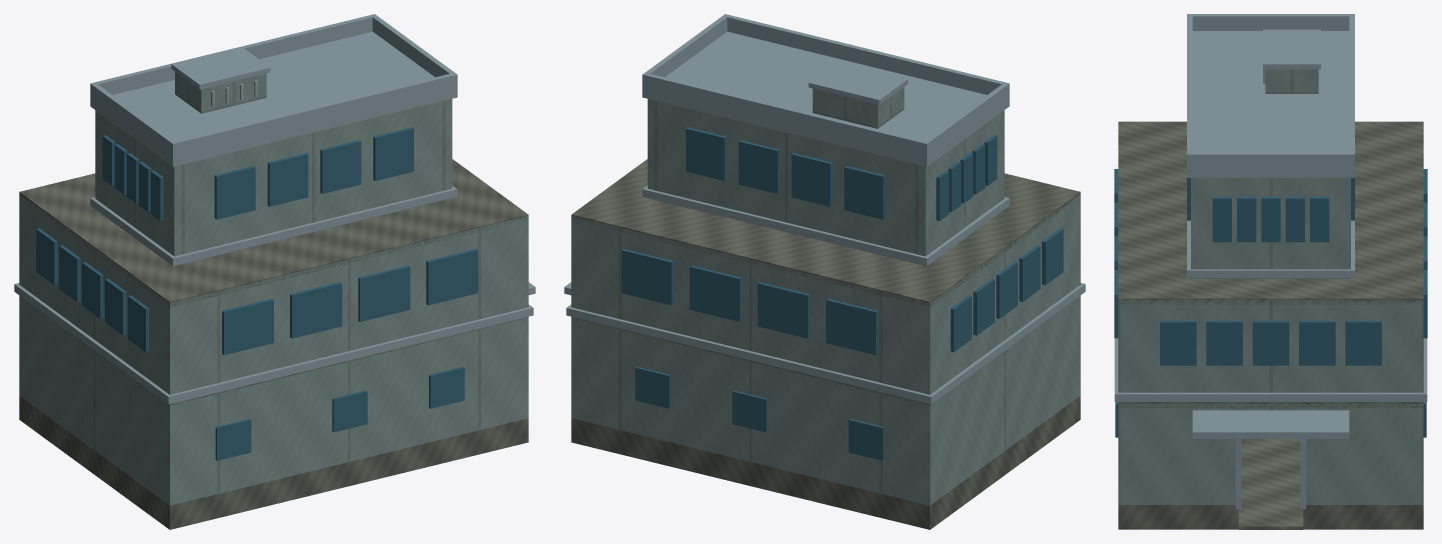
The model's file is Halo_Rowhouse.glb.
3 renders of one model, left to right at view 1: azimuth 30°, elevation 25°; view 2: azimuth 150°, elevation 25°; view 3: azimuth 270°, elevation 25°, orthographic.
Parts seen in each view (by area): view 1: Halo_Rowhouse_GroundShell, Halo_Rowhouse_Upper1_Shell_F1, Halo_Rowhouse_Roof, Halo_Rowhouse_Upper2_Shell_F1, Halo_Rowhouse_TerraceDeck_2, Halo_Rowhouse_Foundation, Halo_Rowhouse_Upper1_SideGlazing_F1, Halo_Rowhouse_Upper2_SideGlazing_F1, Halo_Rowhouse_Upper1_SlabBand_F1, Halo_Rowhouse_Upper1_EndGlazing_F1, Halo_Rowhouse_RoofPlant, Halo_Rowhouse_Upper2_SlabBand_F1 (+2 smaller); view 2: Halo_Rowhouse_GroundShell, Halo_Rowhouse_Upper1_Shell_F1, Halo_Rowhouse_Roof, Halo_Rowhouse_Upper2_Shell_F1, Halo_Rowhouse_TerraceDeck_2, Halo_Rowhouse_Foundation, Halo_Rowhouse_Upper1_SideGlazing_F1, Halo_Rowhouse_Upper2_SideGlazing_F1, Halo_Rowhouse_Upper1_SlabBand_F1, Halo_Rowhouse_Upper1_EndGlazing_F1, Halo_Rowhouse_RoofPlant, Halo_Rowhouse_Upper2_SlabBand_F1 (+2 smaller); view 3: Halo_Rowhouse_TerraceDeck_2, Halo_Rowhouse_Roof, Halo_Rowhouse_GroundShell, Halo_Rowhouse_Upper1_Shell_F1, Halo_Rowhouse_Upper2_Shell_F1, Halo_Rowhouse_Foundation, Halo_Rowhouse_Upper1_EndGlazing_F1, Halo_Rowhouse_Upper2_EndGlazing_F1, Halo_Rowhouse_PortalFixture, Halo_Rowhouse_RoofPlant, Halo_Rowhouse_Upper1_SlabBand_F1, Halo_Rowhouse_Upper2_SlabBand_F1 (+4 smaller).
Boxes of the visible parts, x1=… form: Halo_Rowhouse_GroundShell: x1=19, y1=295, x2=528, y2=505; Halo_Rowhouse_Upper1_Shell_F1: x1=19, y1=195, x2=528, y2=404; Halo_Rowhouse_Roof: x1=90, y1=14, x2=457, y2=166; Halo_Rowhouse_Upper2_Shell_F1: x1=95, y1=99, x2=452, y2=265; Halo_Rowhouse_TerraceDeck_2: x1=19, y1=159, x2=528, y2=307; Halo_Rowhouse_Foundation: x1=19, y1=396, x2=528, y2=529; Halo_Rowhouse_Upper1_SideGlazing_F1: x1=222, y1=249, x2=478, y2=355; Halo_Rowhouse_Upper2_SideGlazing_F1: x1=214, y1=127, x2=413, y2=219; Halo_Rowhouse_Upper1_SlabBand_F1: x1=14, y1=283, x2=533, y2=404; Halo_Rowhouse_Upper1_EndGlazing_F1: x1=36, y1=228, x2=149, y2=352; Halo_Rowhouse_RoofPlant: x1=171, y1=47, x2=270, y2=113; Halo_Rowhouse_Upper2_SlabBand_F1: x1=90, y1=185, x2=457, y2=265; Halo_Rowhouse_GroundShell: x1=571, y1=295, x2=1080, y2=505; Halo_Rowhouse_Upper1_Shell_F1: x1=571, y1=195, x2=1080, y2=405; Halo_Rowhouse_Roof: x1=642, y1=14, x2=1009, y2=166; Halo_Rowhouse_Upper2_Shell_F1: x1=647, y1=99, x2=1004, y2=265; Halo_Rowhouse_TerraceDeck_2: x1=571, y1=159, x2=1080, y2=307; Halo_Rowhouse_Foundation: x1=571, y1=396, x2=1080, y2=529; Halo_Rowhouse_Upper1_SideGlazing_F1: x1=621, y1=249, x2=877, y2=355; Halo_Rowhouse_Upper2_SideGlazing_F1: x1=686, y1=127, x2=885, y2=219; Halo_Rowhouse_Upper1_SlabBand_F1: x1=566, y1=283, x2=1085, y2=404; Halo_Rowhouse_Upper1_EndGlazing_F1: x1=950, y1=228, x2=1063, y2=352; Halo_Rowhouse_RoofPlant: x1=808, y1=62, x2=907, y2=128; Halo_Rowhouse_Upper2_SlabBand_F1: x1=642, y1=185, x2=1009, y2=265; Halo_Rowhouse_TerraceDeck_2: x1=1118, y1=121, x2=1423, y2=304; Halo_Rowhouse_Roof: x1=1187, y1=14, x2=1354, y2=177; Halo_Rowhouse_GroundShell: x1=1118, y1=403, x2=1423, y2=504; Halo_Rowhouse_Upper1_Shell_F1: x1=1118, y1=299, x2=1423, y2=403; Halo_Rowhouse_Upper2_Shell_F1: x1=1191, y1=178, x2=1350, y2=278; Halo_Rowhouse_Foundation: x1=1118, y1=438, x2=1423, y2=529; Halo_Rowhouse_Upper1_EndGlazing_F1: x1=1160, y1=320, x2=1381, y2=365; Halo_Rowhouse_Upper2_EndGlazing_F1: x1=1212, y1=197, x2=1329, y2=242; Halo_Rowhouse_PortalFixture: x1=1192, y1=410, x2=1349, y2=438; Halo_Rowhouse_RoofPlant: x1=1263, y1=29, x2=1320, y2=93; Halo_Rowhouse_Upper1_SlabBand_F1: x1=1114, y1=338, x2=1427, y2=401; Halo_Rowhouse_Upper2_SlabBand_F1: x1=1187, y1=220, x2=1354, y2=278.
Bounding box in the file's own units: 12.46 × 10.79 × 8.21.
5 materials, 2 textured.
